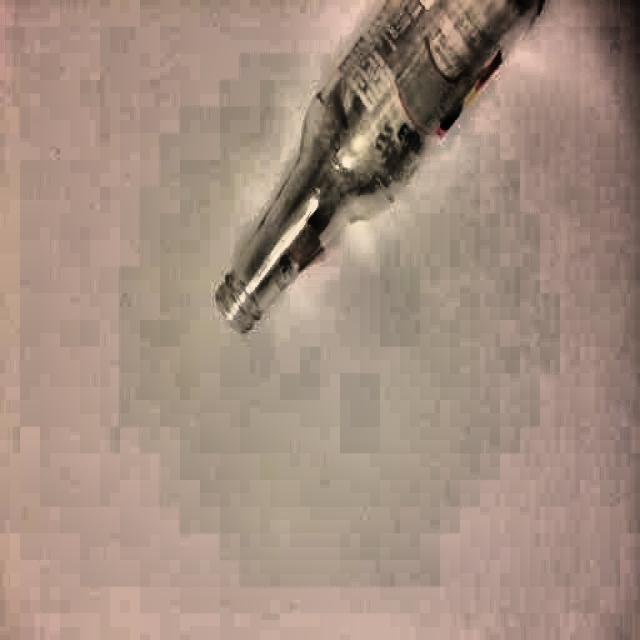glass: (211, 0, 552, 337)
